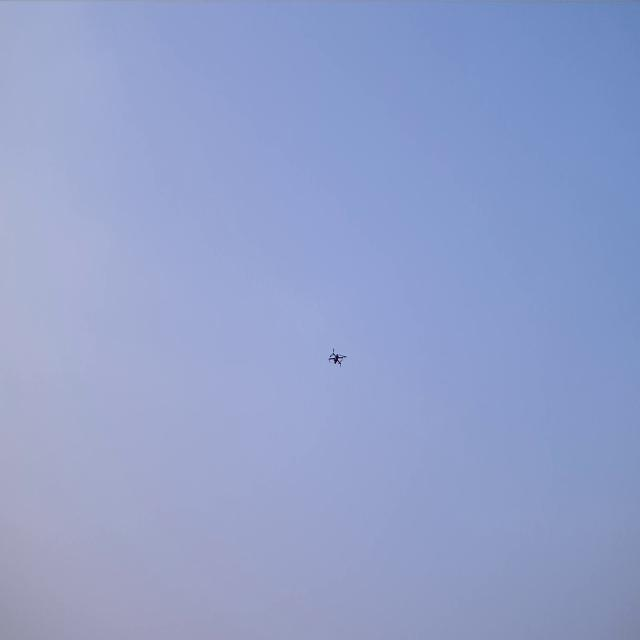UAV: (327, 347, 347, 369)
